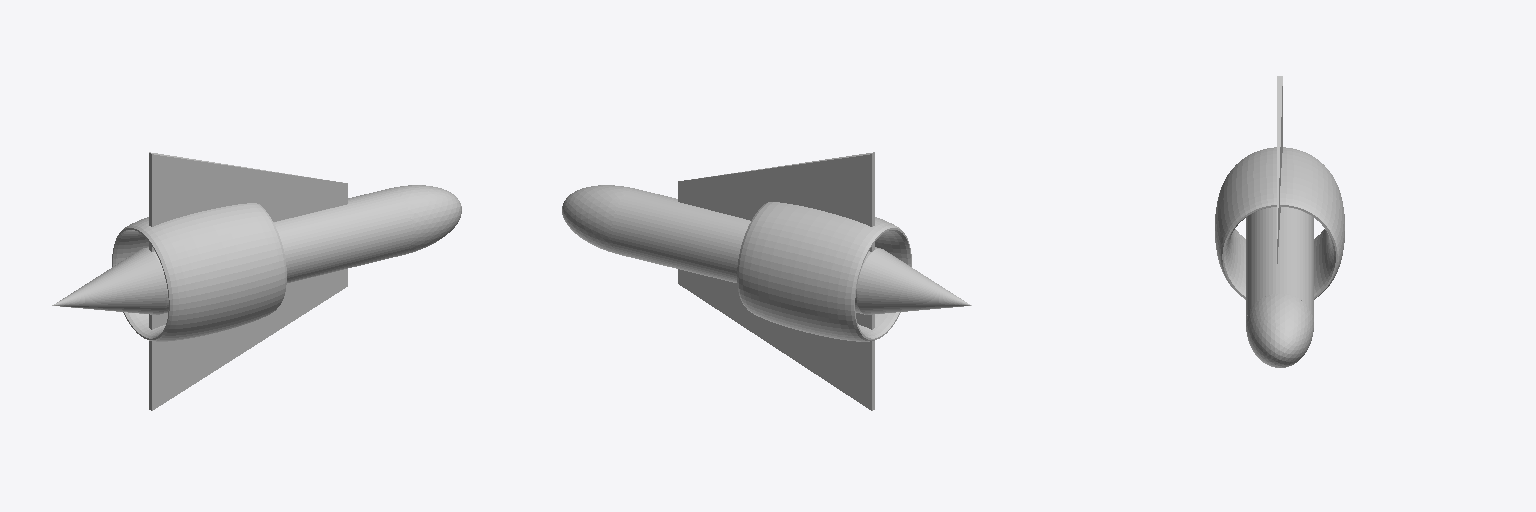
The model's file is ship.obj.
The picture shows the model from 3 angles: view 1: azimuth 30°, elevation 25°; view 2: azimuth 150°, elevation 25°; view 3: azimuth 270°, elevation 25°; orthographic projection.
Parts seen in each view (by area): view 1: Spaceship; view 2: Spaceship; view 3: Spaceship.
Boxes of the visible parts, <box> form: Spaceship: <box>52,152,461,410</box>; Spaceship: <box>562,152,971,410</box>; Spaceship: <box>1215,76,1344,367</box>.
Bounding box in the file's own units: 8.3 × 5 × 2.3.